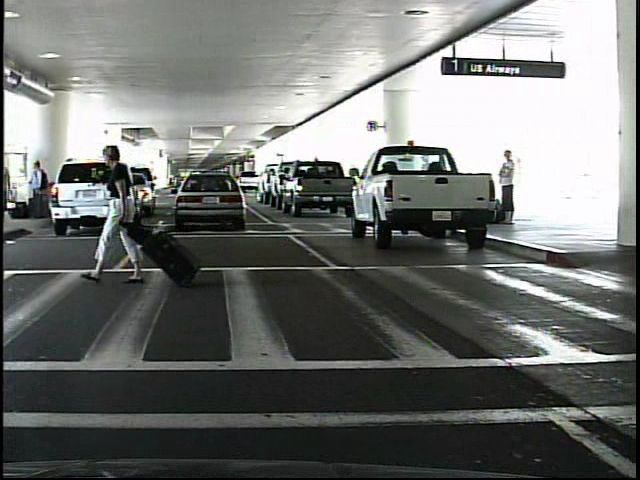person: (95, 145, 162, 288), (487, 151, 525, 226), (29, 158, 49, 220)
